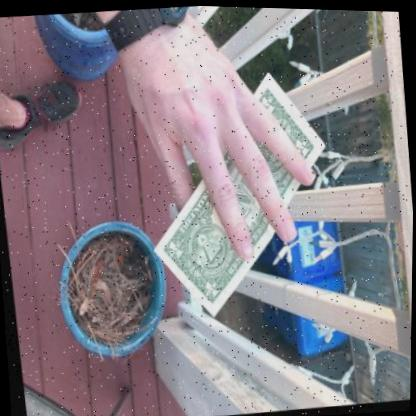one-back: (151, 73, 323, 318)
